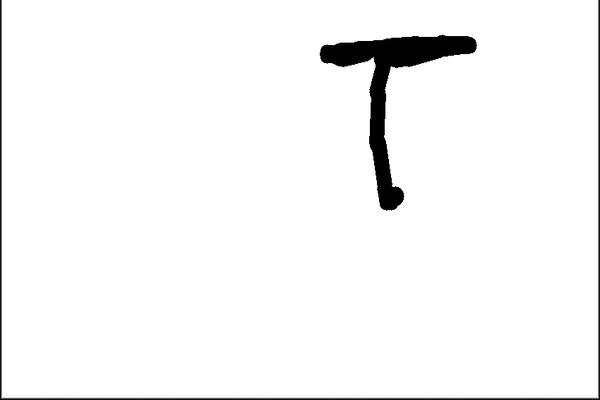T: (315, 24, 491, 215)
